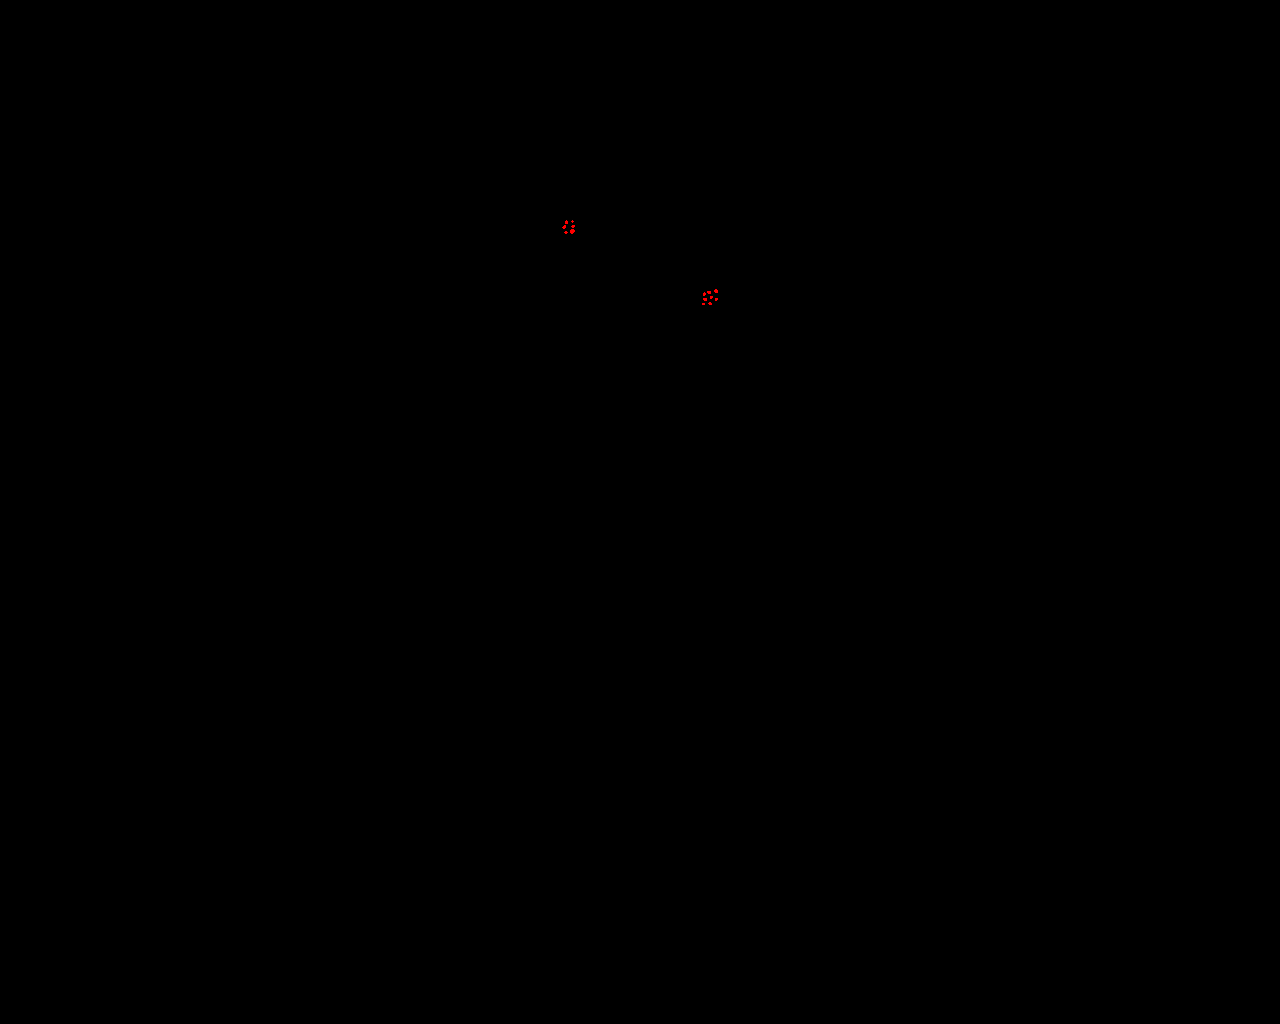Target: (571, 229, 575, 234), (562, 225, 566, 229), (571, 225, 575, 228), (564, 231, 568, 234), (714, 289, 718, 293), (703, 292, 706, 296), (703, 298, 707, 301), (565, 220, 568, 224), (707, 290, 711, 294), (709, 296, 713, 299), (715, 298, 718, 301), (708, 302, 712, 305), (571, 220, 574, 223), (702, 303, 705, 305)
